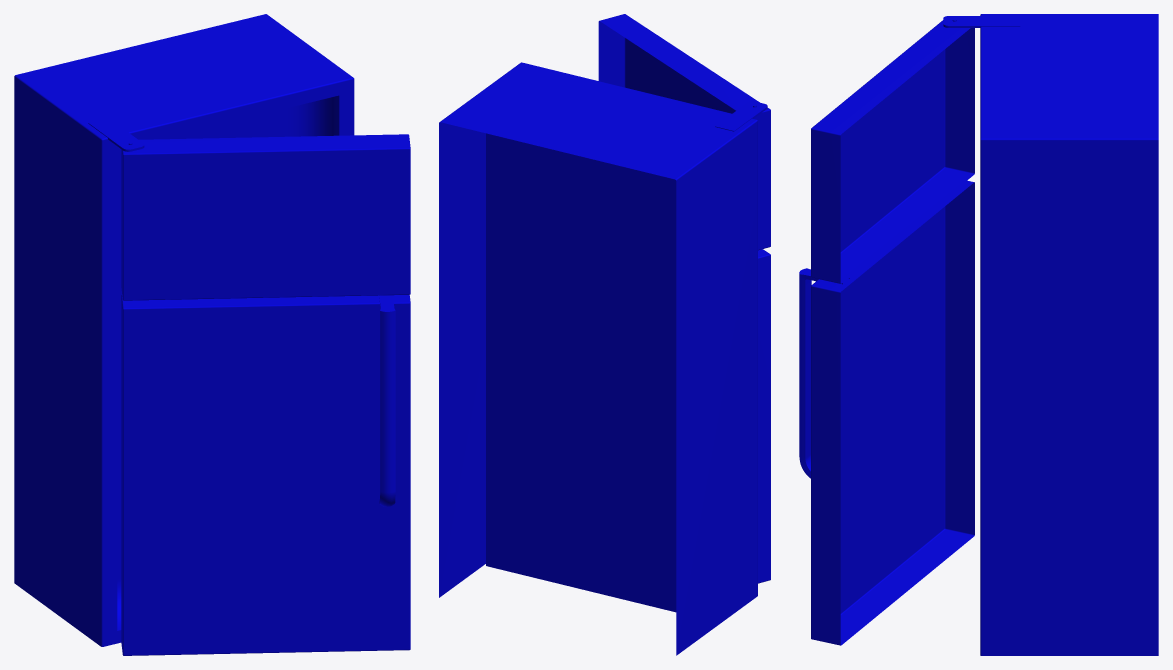
The model's file is KitchenFridge2.fbx.
The picture shows the model from 3 angles, left to right: view 1: azimuth 30°, elevation 25°; view 2: azimuth 150°, elevation 25°; view 3: azimuth 270°, elevation 25°; orthographic projection. The views are drawn at different scales.
Parts seen in each view (by area): view 1: polySurface49, Fridge2; view 2: Fridge2, polySurface49; view 3: Fridge2, polySurface49.
Boxes of the visible parts, x1,y1,x2,y2 form: polySurface49: [121, 134, 410, 655]; Fridge2: [14, 14, 354, 646]; Fridge2: [439, 62, 767, 655]; polySurface49: [598, 14, 770, 583]; Fridge2: [943, 14, 1158, 655]; polySurface49: [799, 20, 974, 645].
Size of the model in its own units: 102 by 197 by 124.
